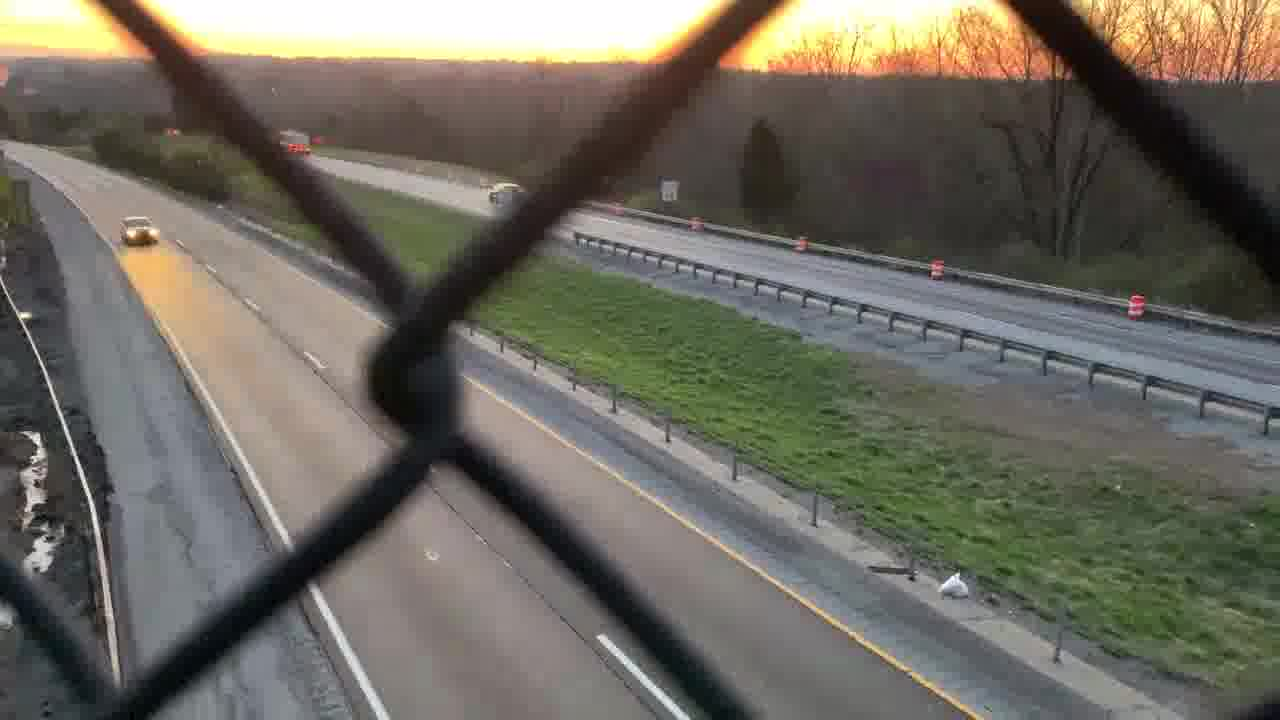heavyTruck: (276, 128, 321, 151)
vehicle: (120, 215, 167, 247), (483, 177, 522, 206)
